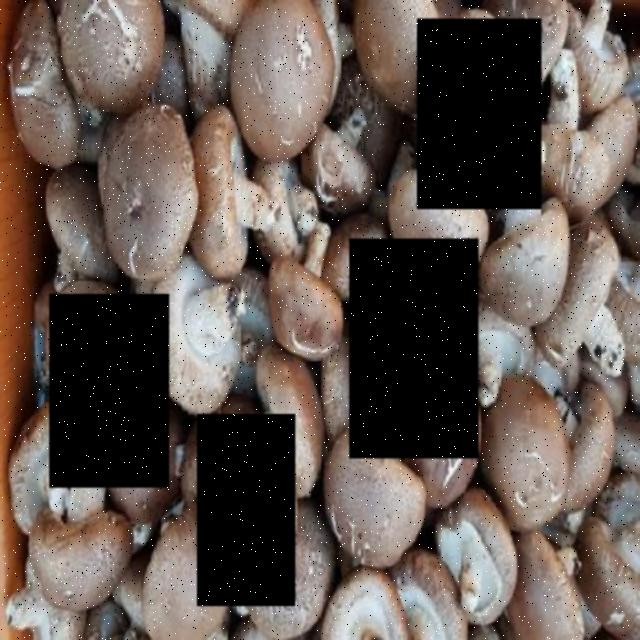Mushroom: (350, 238, 479, 458), (417, 18, 541, 210), (49, 294, 169, 488), (197, 414, 295, 606)
